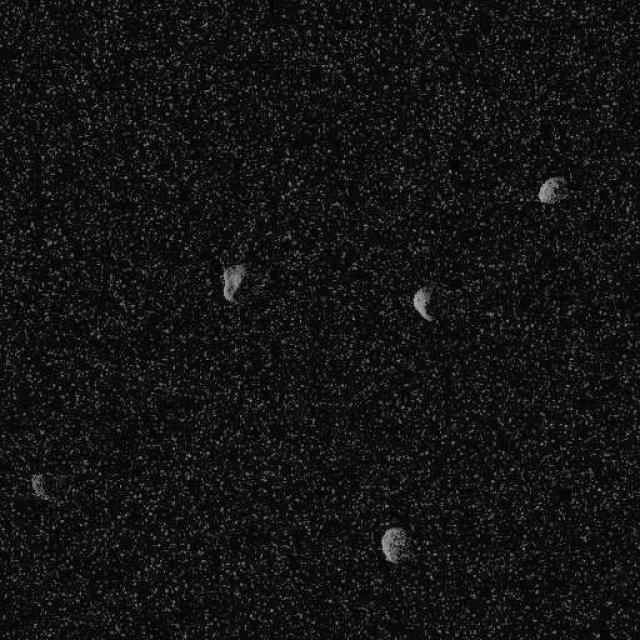D2: (378, 525, 414, 565), (219, 262, 246, 304), (536, 175, 569, 204), (411, 285, 435, 321), (29, 472, 51, 502)
